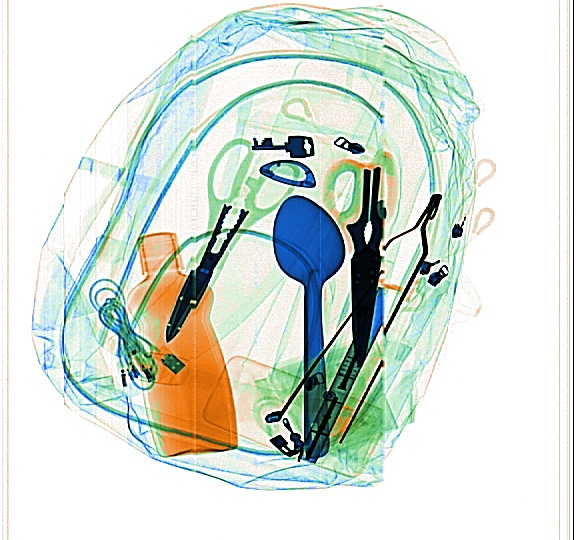bottle: (122, 226, 243, 466)
lighter: (299, 343, 367, 466)
scissor: (160, 131, 303, 348), (318, 143, 406, 374)
